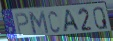2: (78, 7, 94, 32)
A: (63, 9, 81, 33)
C: (47, 10, 61, 34)
M: (27, 10, 51, 36)
P: (14, 12, 30, 37)
Q: (92, 6, 110, 31)
